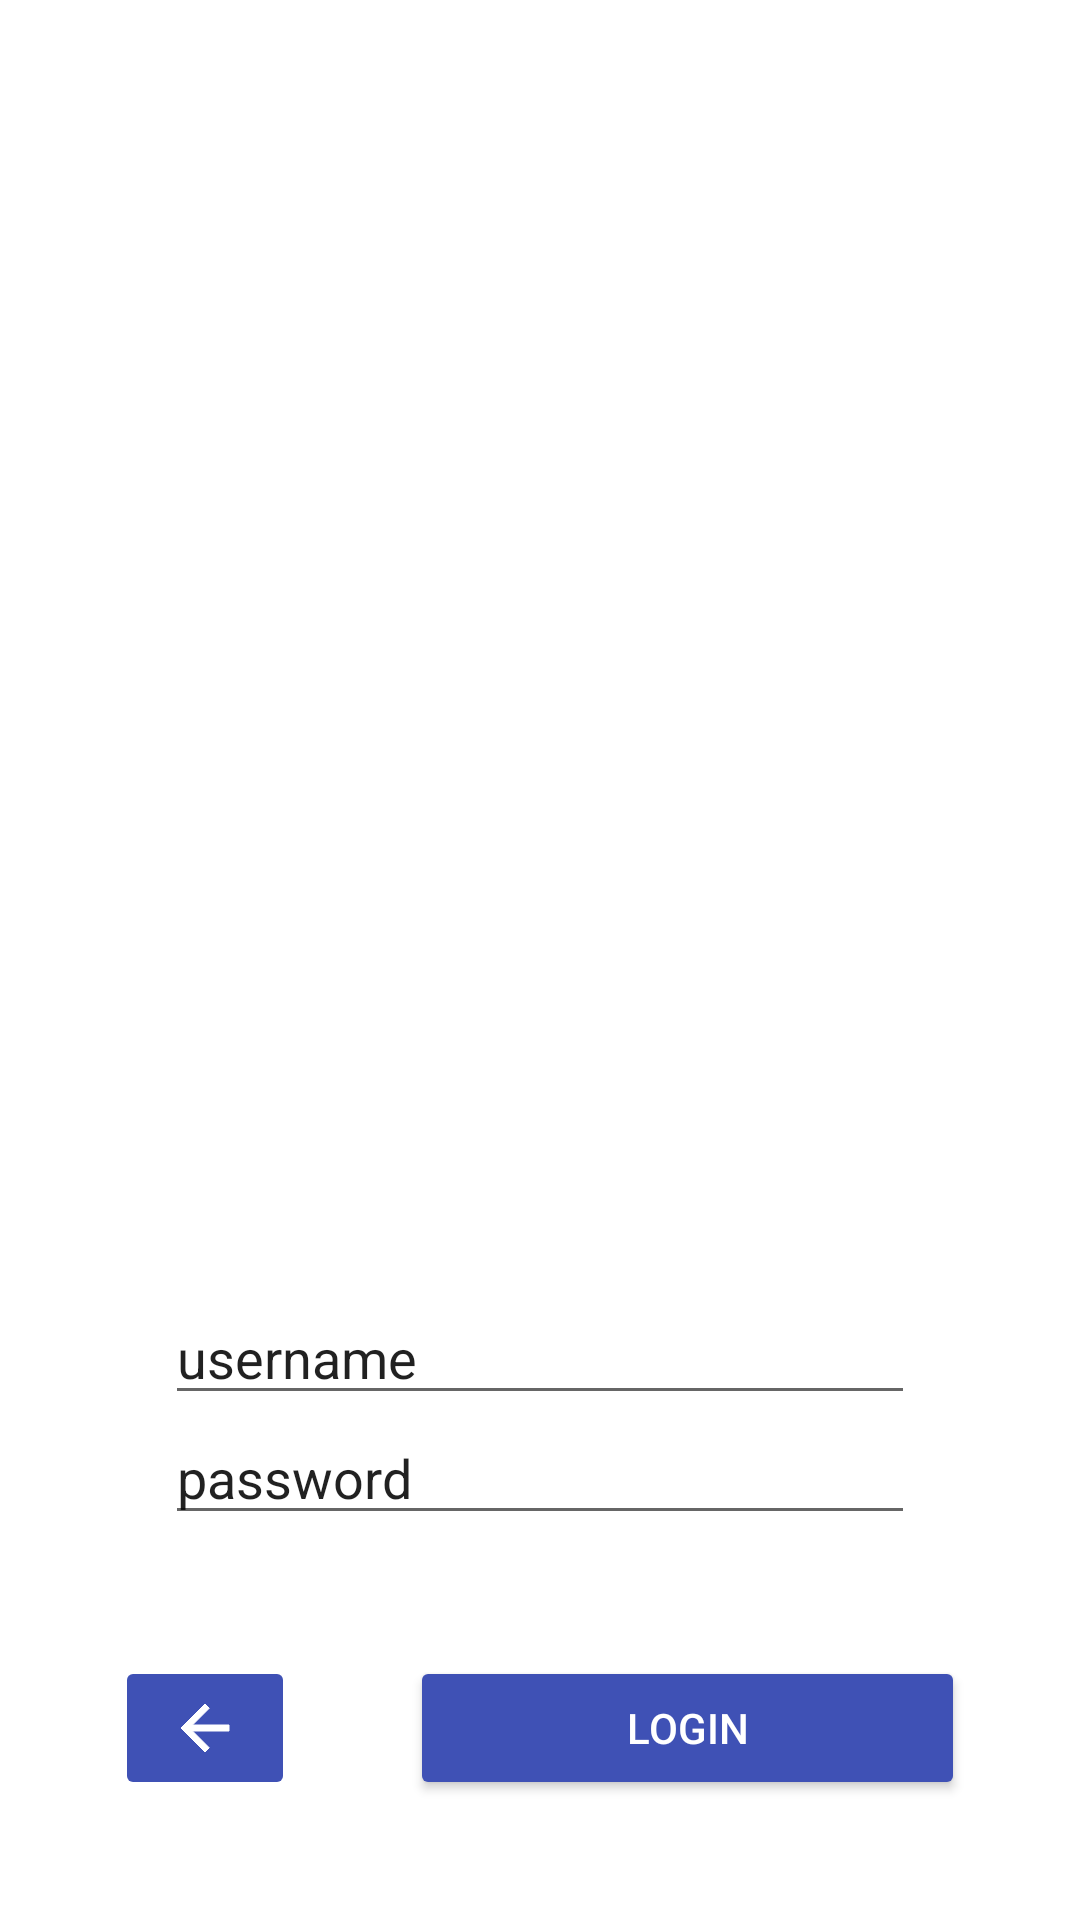

Where to tap for icons on this 1080×1920 app screen, as [x,y]:
arrow back: [205,1728]
